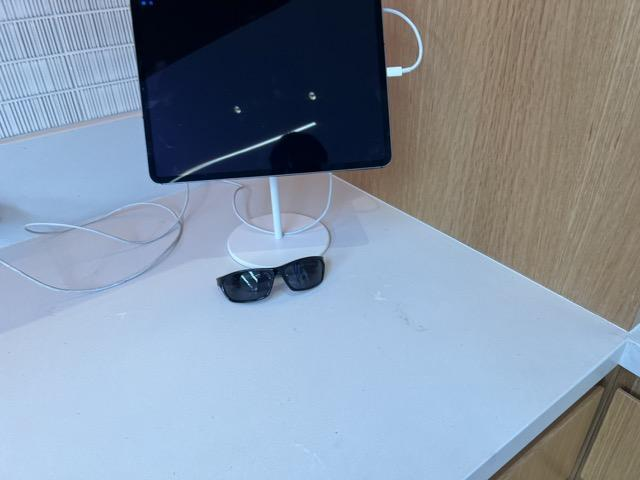Sunglasses: (216, 255, 326, 304)
